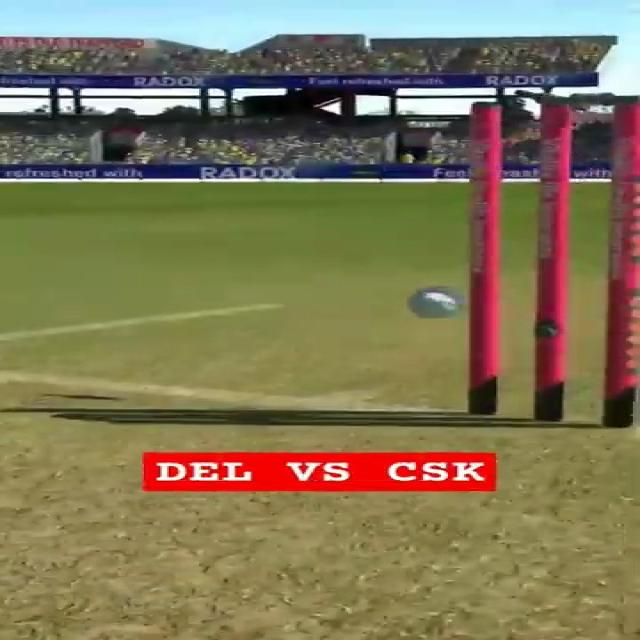ball: (405, 285, 460, 318)
